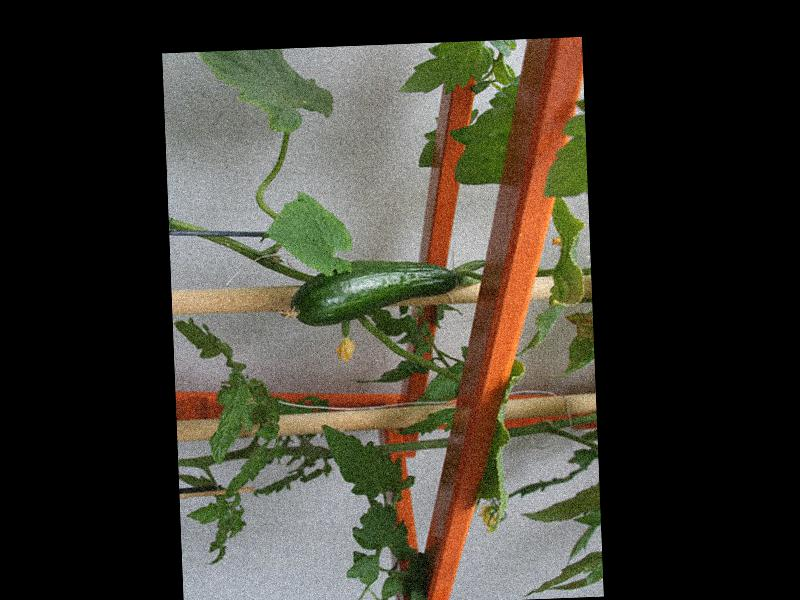Cucumber: (277, 257, 457, 327)
